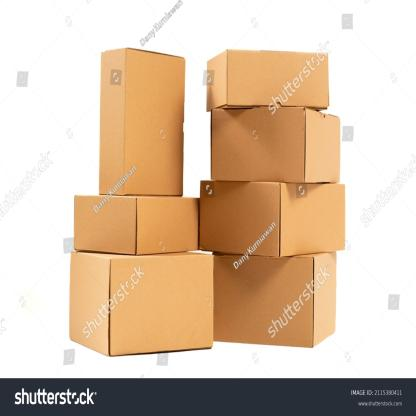box: (110, 254, 212, 356), (211, 255, 314, 349), (124, 51, 184, 197), (210, 108, 306, 184), (228, 48, 329, 106), (280, 184, 346, 254), (136, 198, 200, 256)
